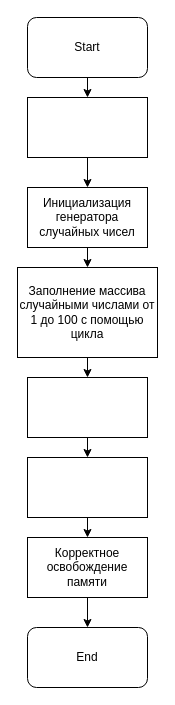
The diagram is 175 pixels wide and 705 high, and some of its shapes have lost their labels. Here are the shapes that lost their labels. From the top down, the centre of each, then its label:
At point (87, 127): "Динамическое выделение памяти под массив".
At point (87, 407): "Вычисление суммы и среднего значения".
At point (87, 487): "Вывод результата".
